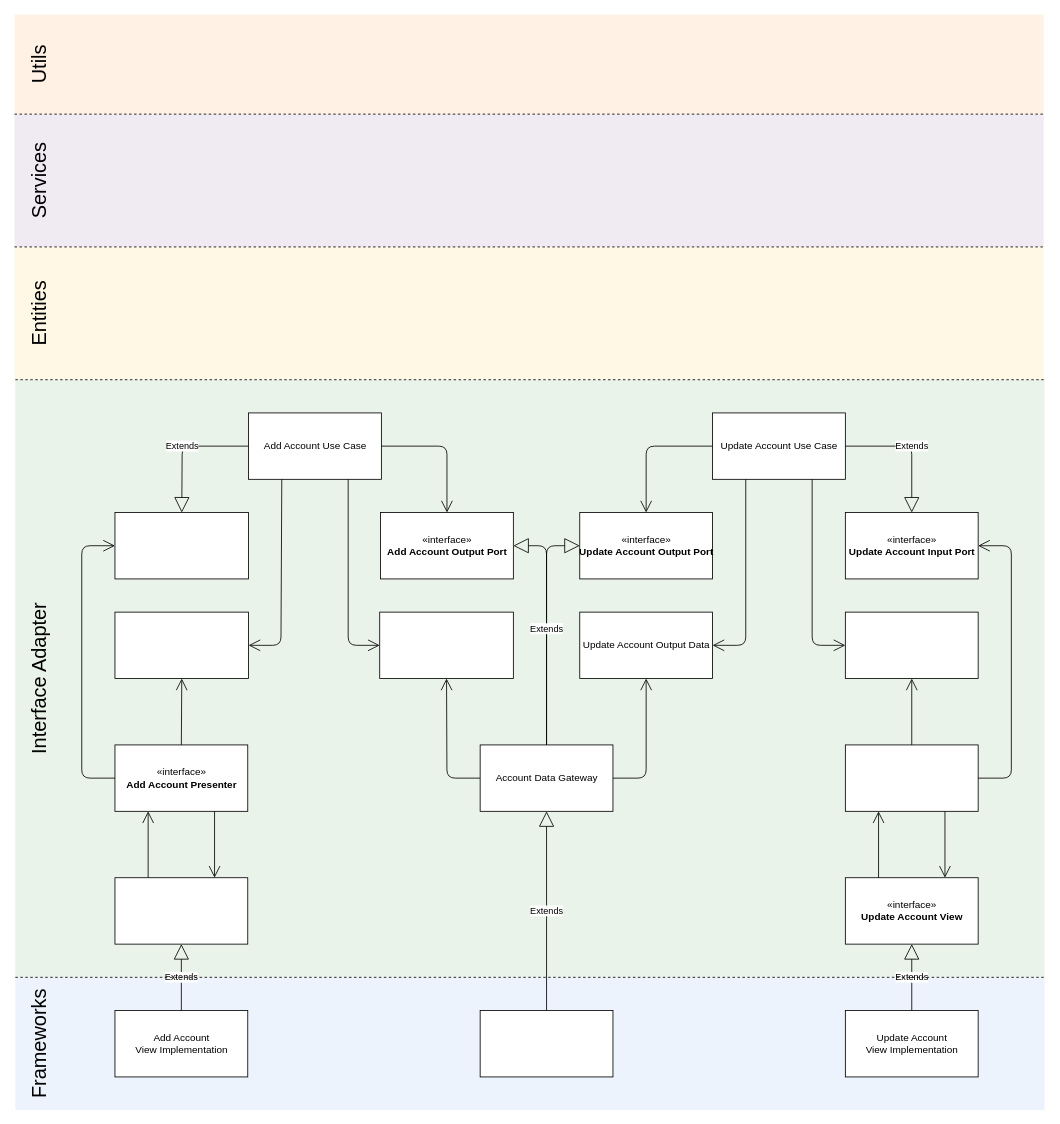
Some shapes in this 1060 by 1124 pixel diagram are drawn without their labels. Here are the shapes that lost their labels. From the top down, the centre of each, then its label:
the point at 181,545: «interface» Add Account Input Port
the point at 181,645: Add Account Input Data
the point at 446,645: Add Account Output data
the point at 911,645: Update Account Input Data
the point at 911,777: «interface» Update Account Presenter
the point at 181,910: «interface» Add Account View
the point at 546,1043: Retrofit Account Data Gateway
